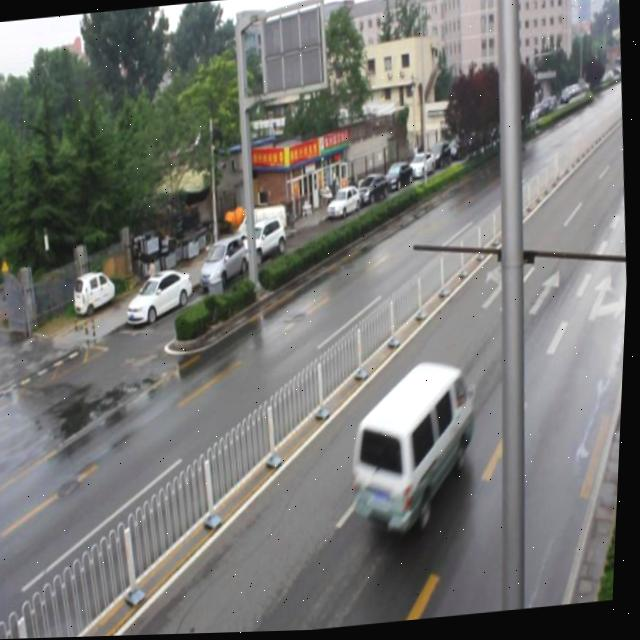truck: (346, 361, 486, 546)
